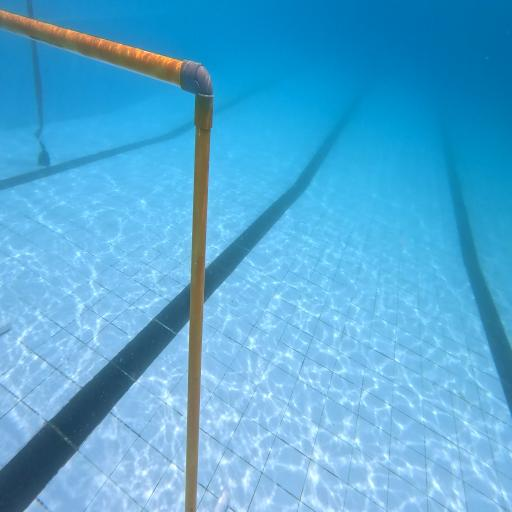gate: (0, 9, 230, 512)
